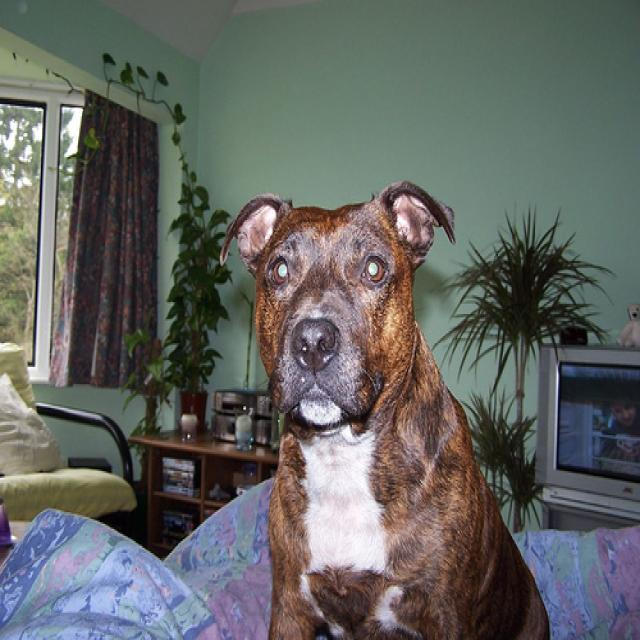dog-staffordshire_bull_terrier: (210, 179, 556, 637)
